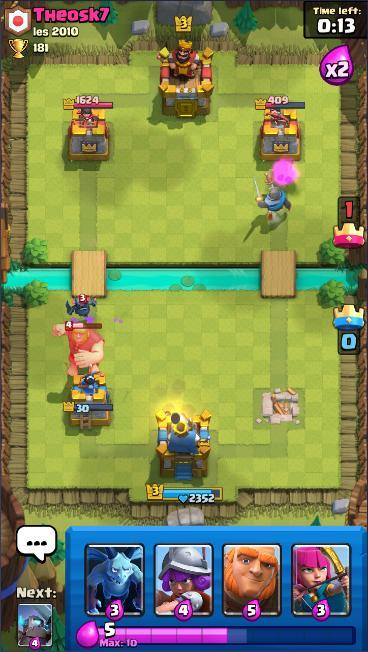ally_knight: (251, 176, 294, 221)
enemy_giant: (53, 319, 107, 379)
enemy_mini_pekka: (64, 293, 99, 319)
